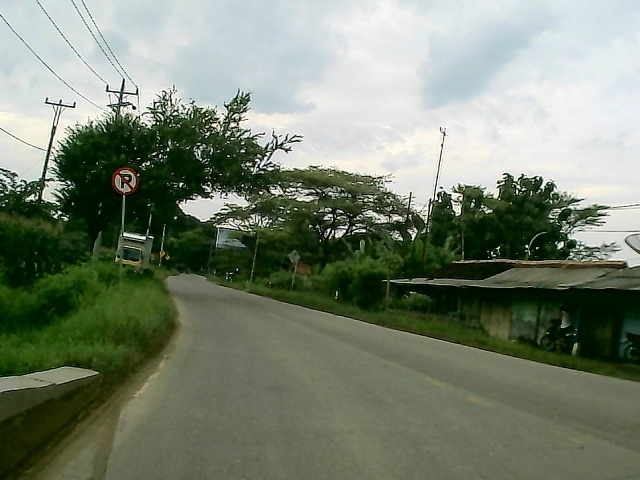Dilarang parkir: (111, 165, 139, 194)
